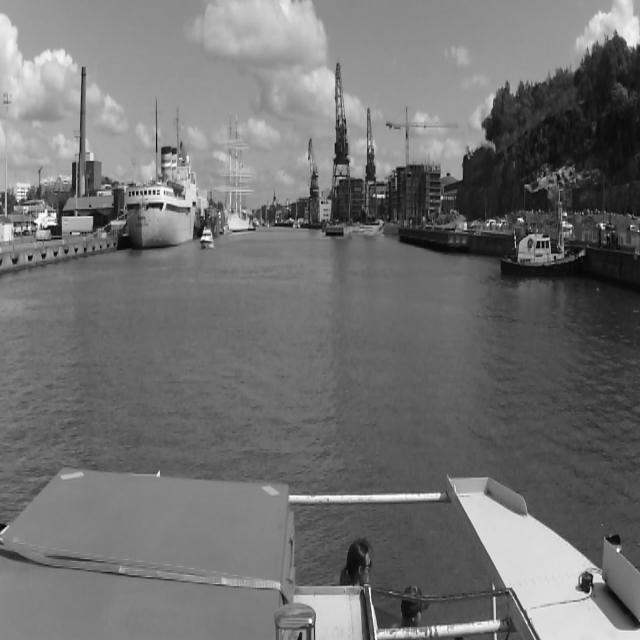ship: (124, 148, 196, 244), (213, 122, 253, 228), (500, 234, 586, 276), (202, 196, 222, 236), (292, 198, 302, 230), (201, 228, 214, 250)
